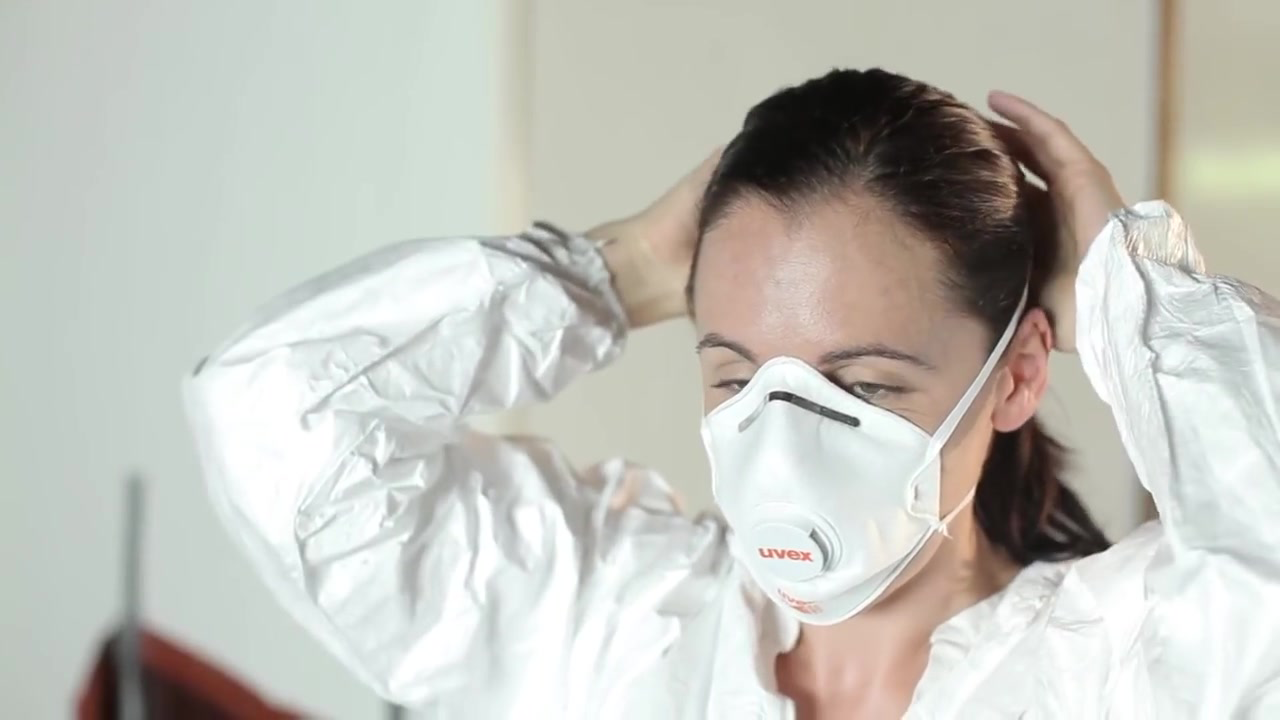Coverall: (91, 224, 1280, 699)
with_mask: (689, 341, 959, 618)
